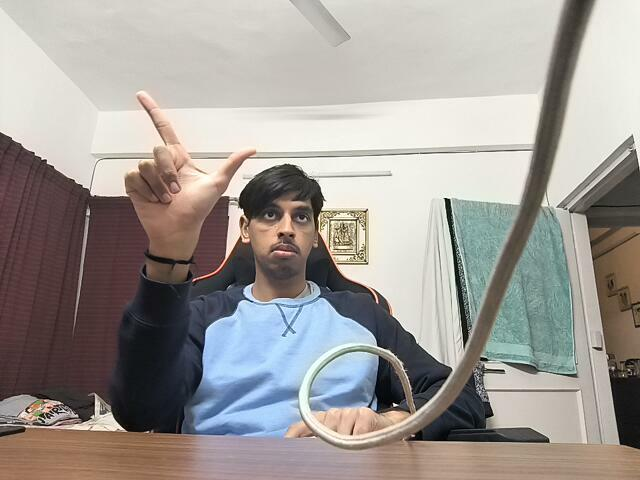UP: (102, 88, 258, 248)
